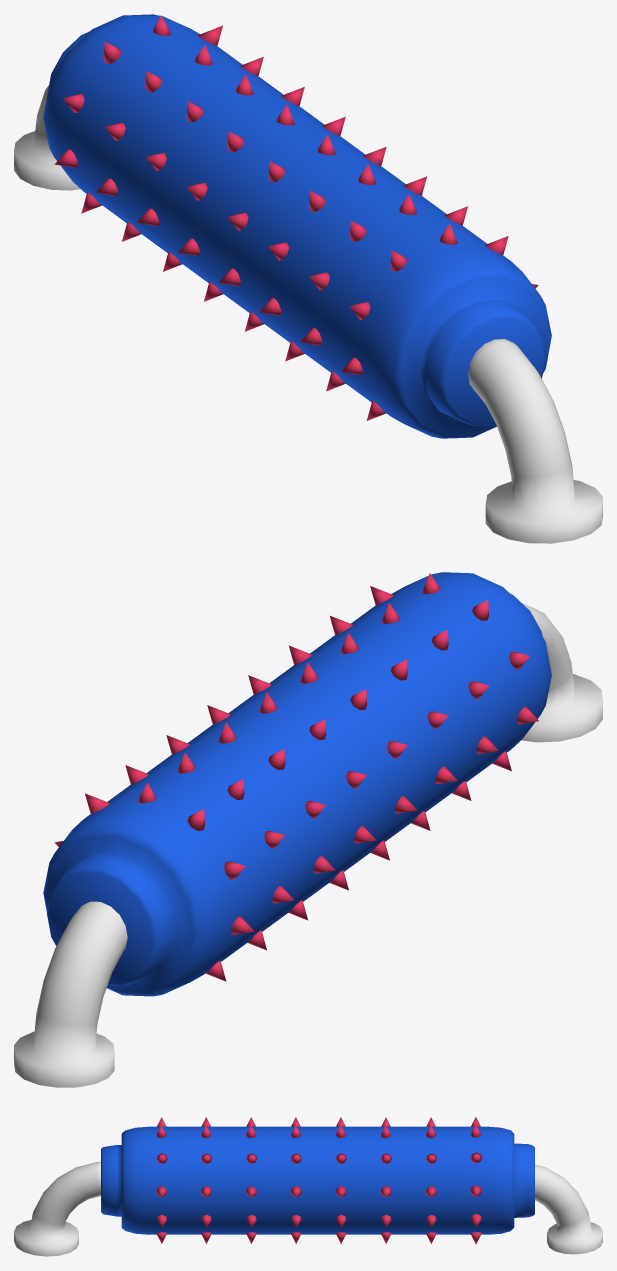
The model's file is Obstacle Roller.fbx.
The picture shows the model from 3 angles, top to bottom: view 1: azimuth 30°, elevation 25°; view 2: azimuth 150°, elevation 25°; view 3: azimuth 270°, elevation 25°; orthographic projection. The views are drawn at different scales.
Visible parts, largest first — view 1: Cylinder, Cylinder.002, Cylinder.001; view 2: Cylinder, Cylinder.001, Cylinder.002; view 3: Cylinder, Cylinder.002, Cylinder.001.
Part boxes in pixels (bbox=[...]): Cylinder: bbox=[43, 14, 551, 438]; Cylinder.002: bbox=[468, 339, 602, 543]; Cylinder.001: bbox=[14, 85, 80, 190]; Cylinder: bbox=[43, 572, 551, 996]; Cylinder.001: bbox=[14, 901, 127, 1087]; Cylinder.002: bbox=[521, 603, 602, 742]; Cylinder: bbox=[101, 1117, 534, 1244]; Cylinder.002: bbox=[14, 1161, 100, 1256]; Cylinder.001: bbox=[535, 1164, 602, 1254].
Bounding box in the file's own units: 235 × 246 × 1089.
